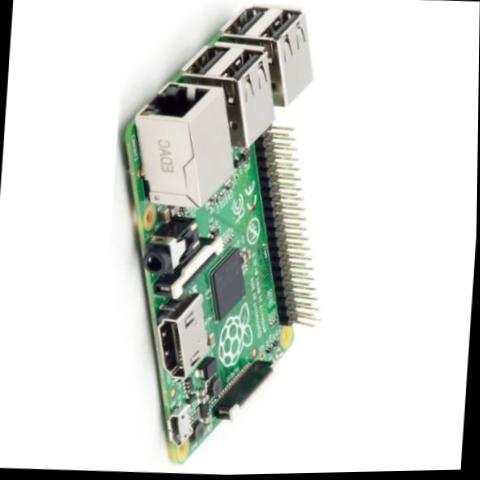Raspberry-Pi-1-Model-B-: (96, 0, 347, 478)
